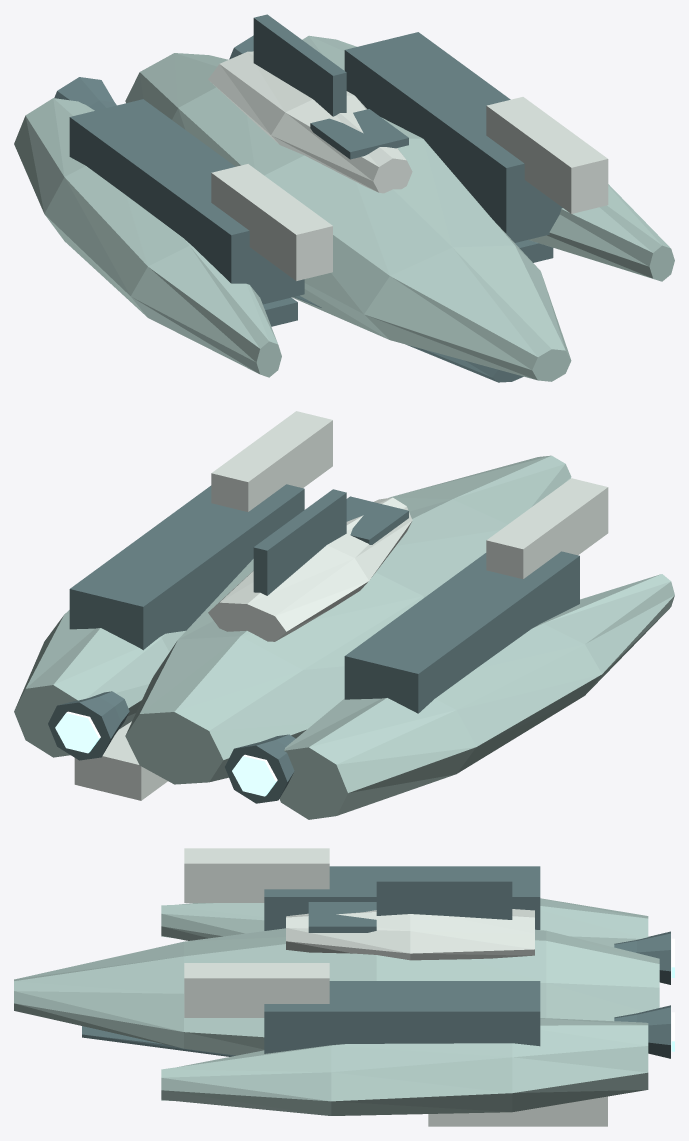
3 renders of one model, top to bottom at view 1: azimuth 30°, elevation 25°; view 2: azimuth 150°, elevation 25°; view 3: azimuth 270°, elevation 25°, orthographic. The views are drawn at different scales.
Size of the model in its own units: 12.81 by 5.88 by 18.18.
